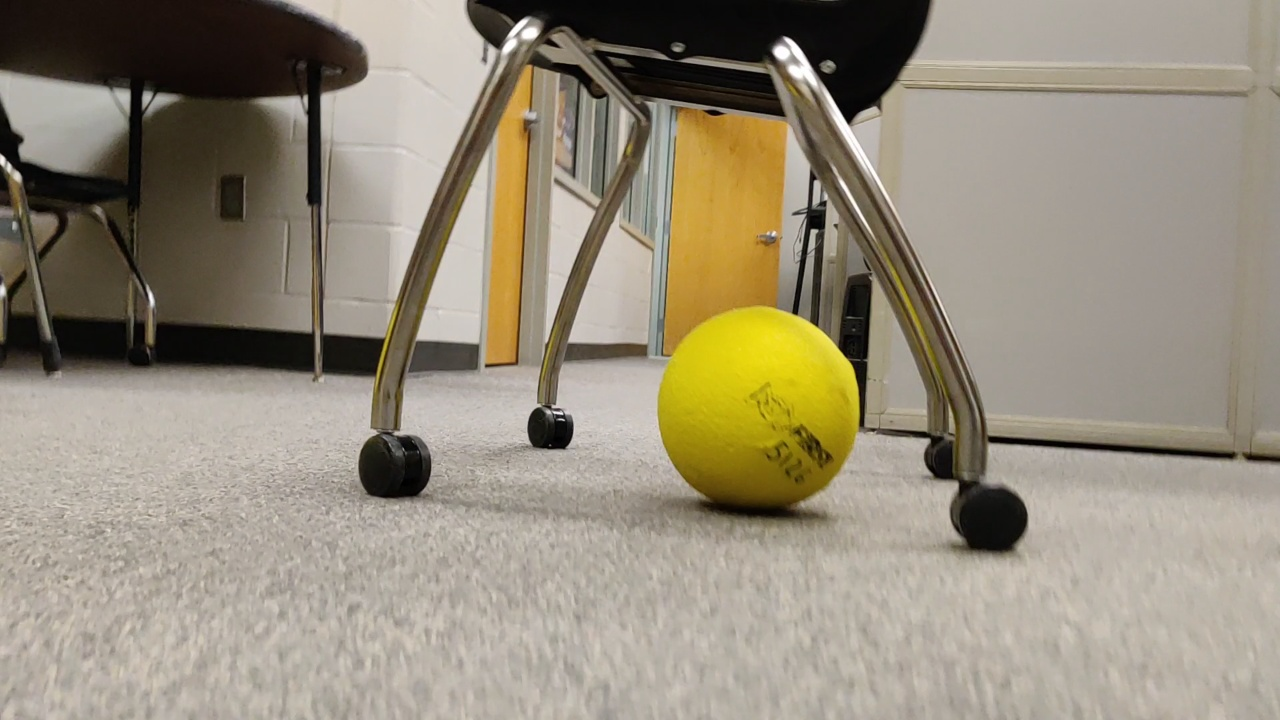Ball: (658, 304, 865, 518)
